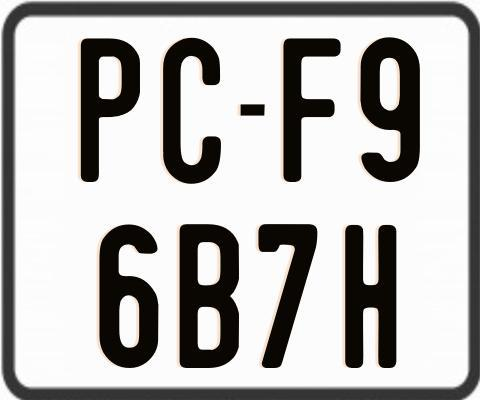6: (98, 222, 162, 371)
7: (255, 223, 317, 369)
9: (357, 34, 421, 183)
B: (178, 223, 240, 370)
C: (162, 35, 223, 181)
F: (282, 35, 344, 180)
H: (342, 223, 395, 368)
P: (81, 38, 142, 182)
